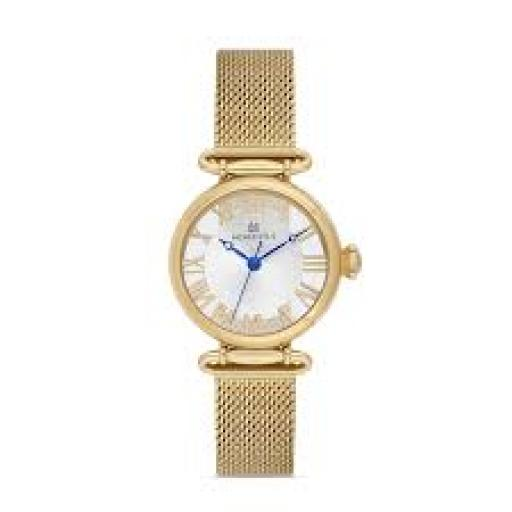KolSaati: (162, 25, 366, 500)
